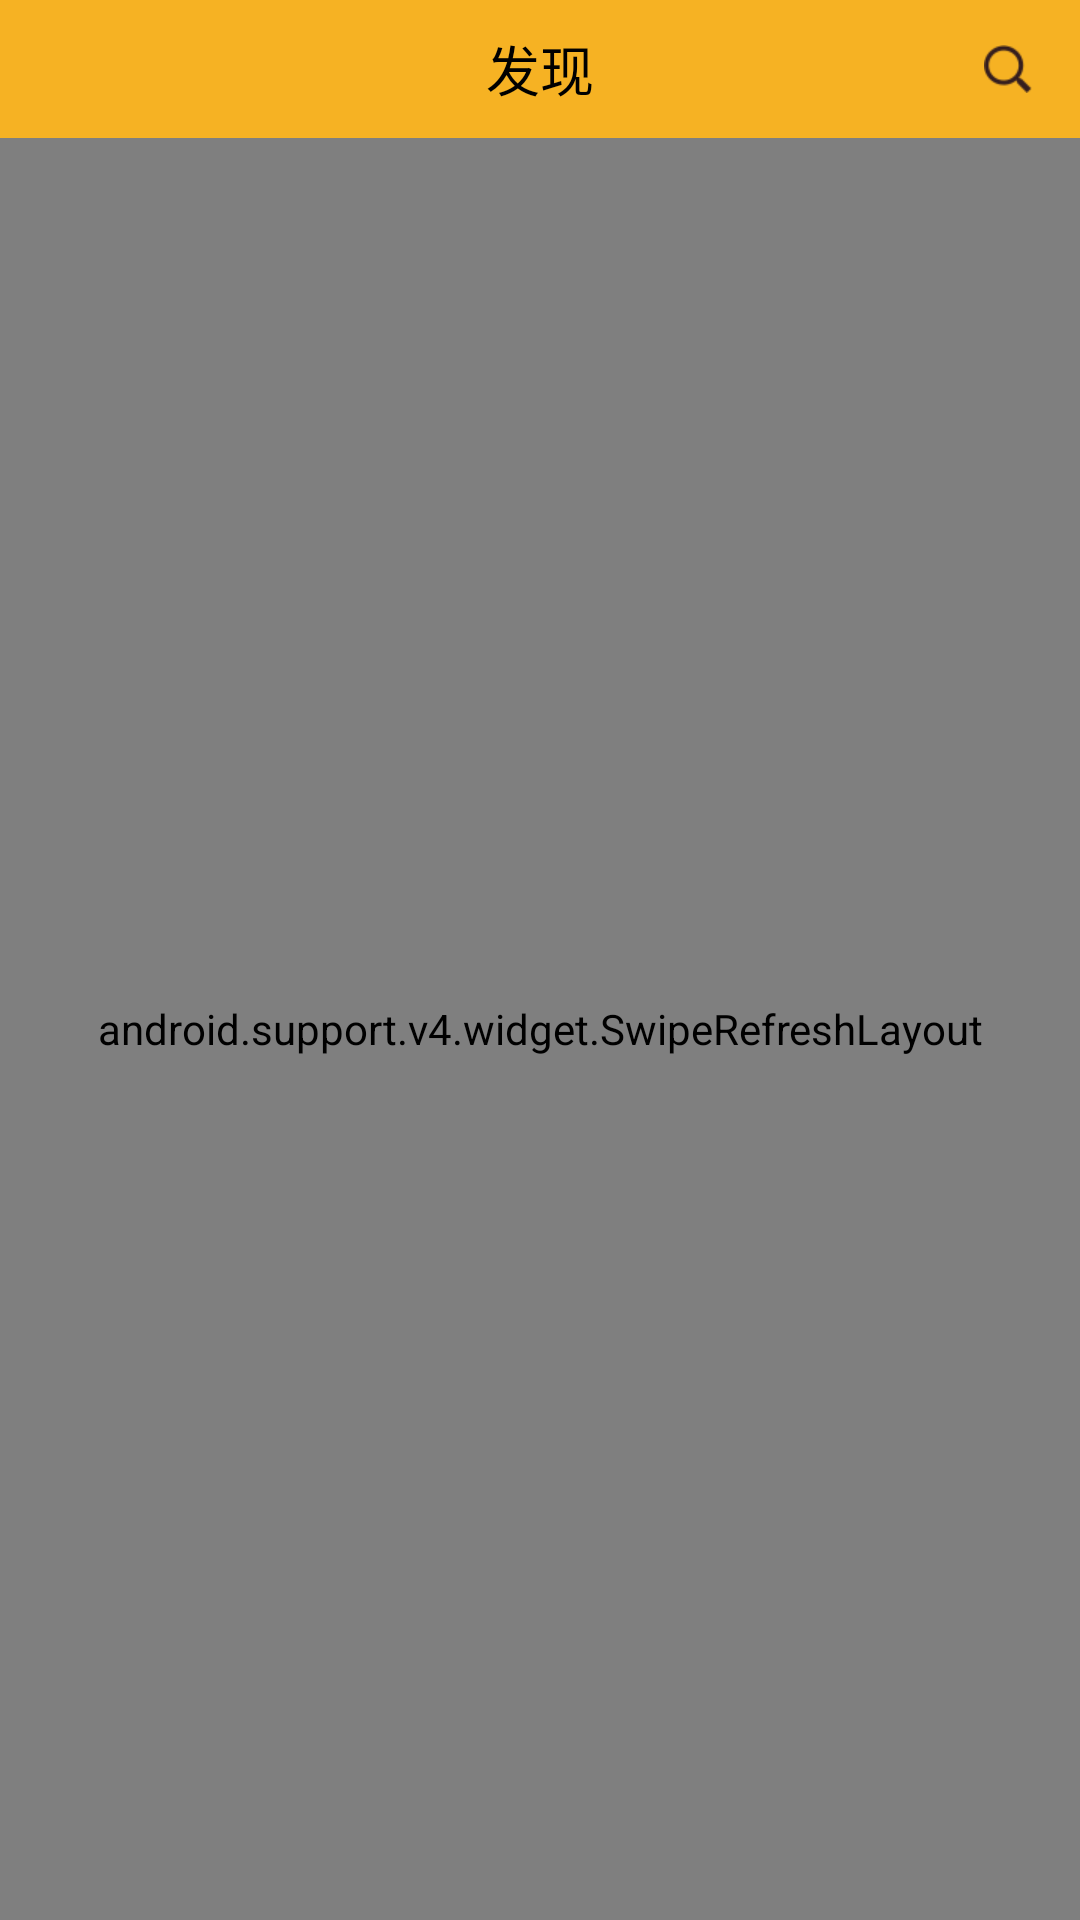

Screen size 1080×1920. Icon name, then its center in pixels as point (x, y):
souso: point (1007, 69)
